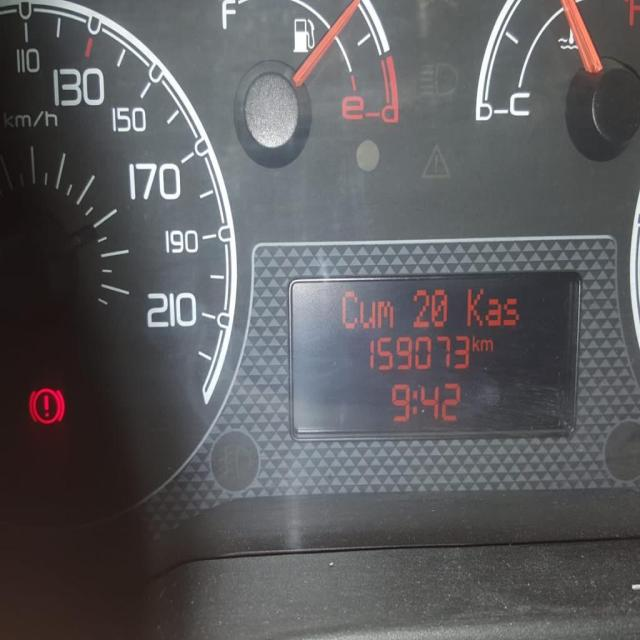odometer: (287, 269, 582, 443)
